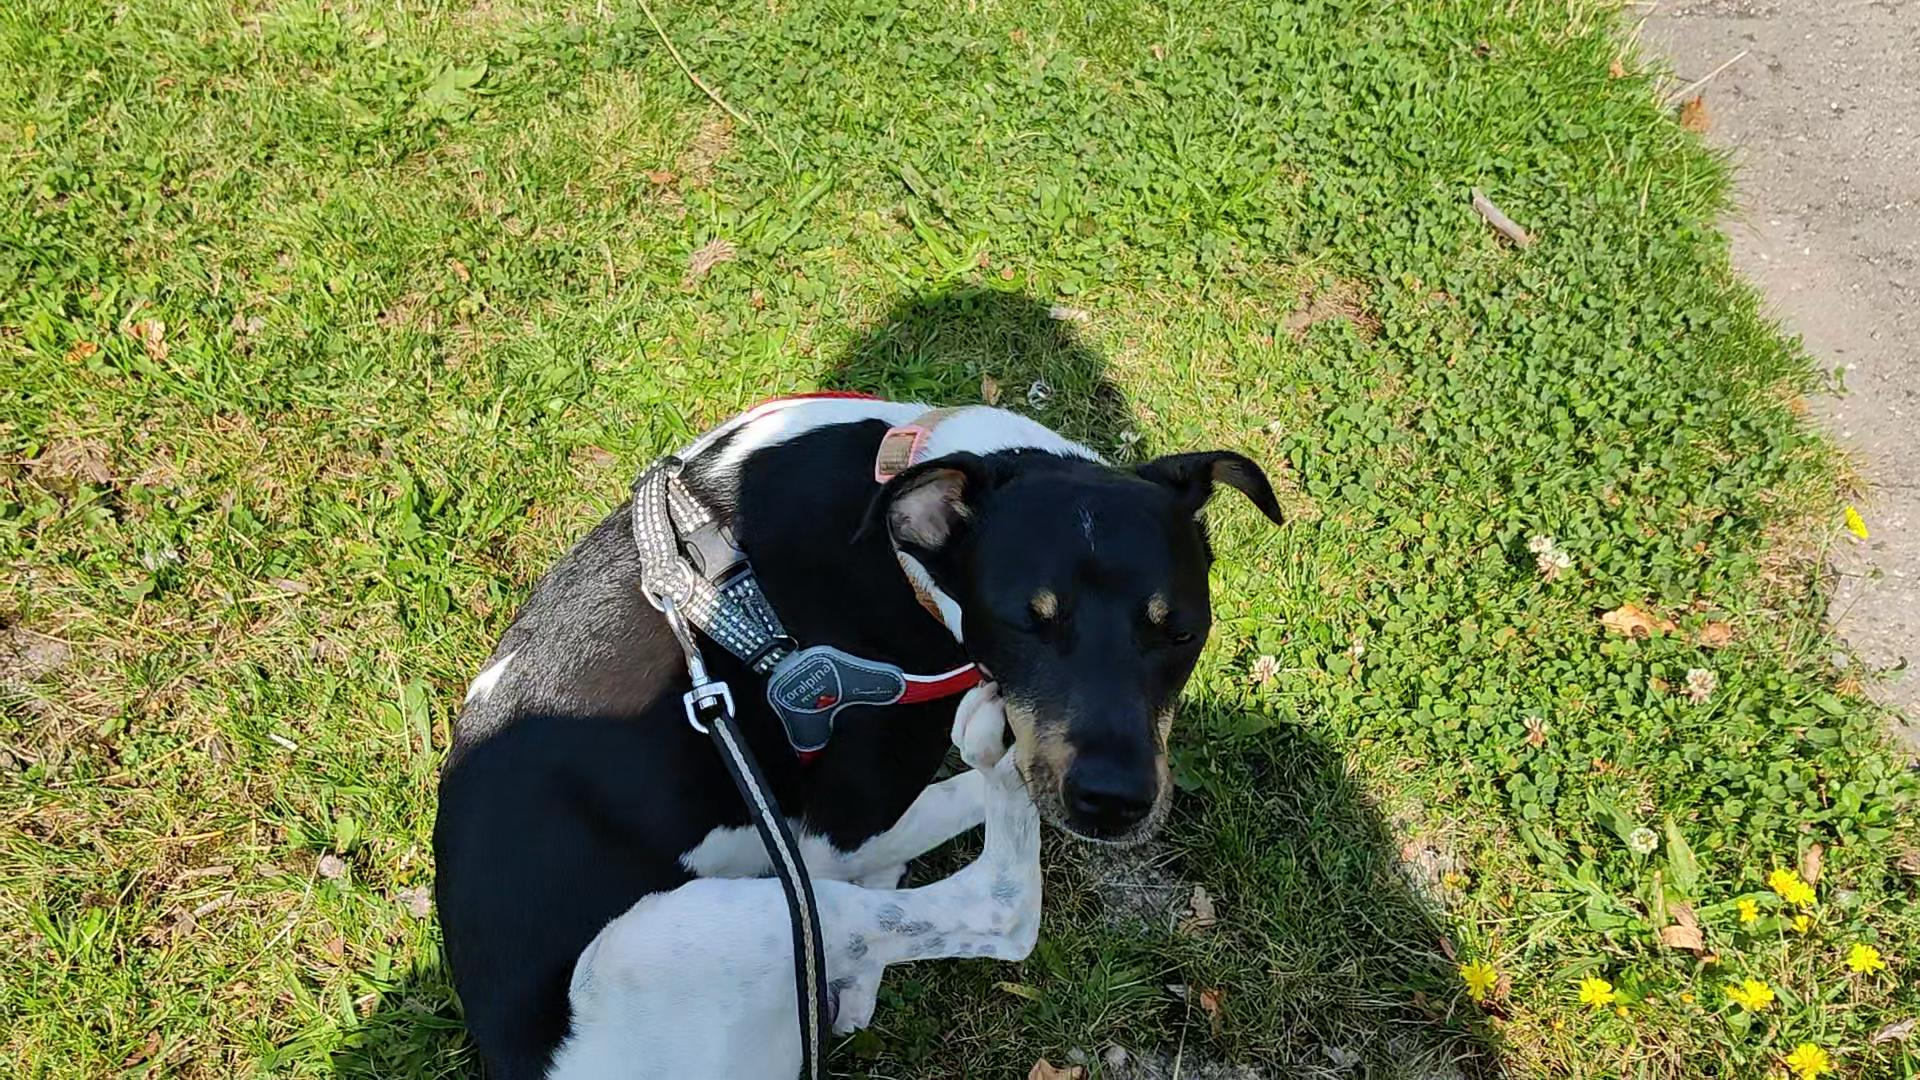Dog: (419, 380, 1294, 1079)
